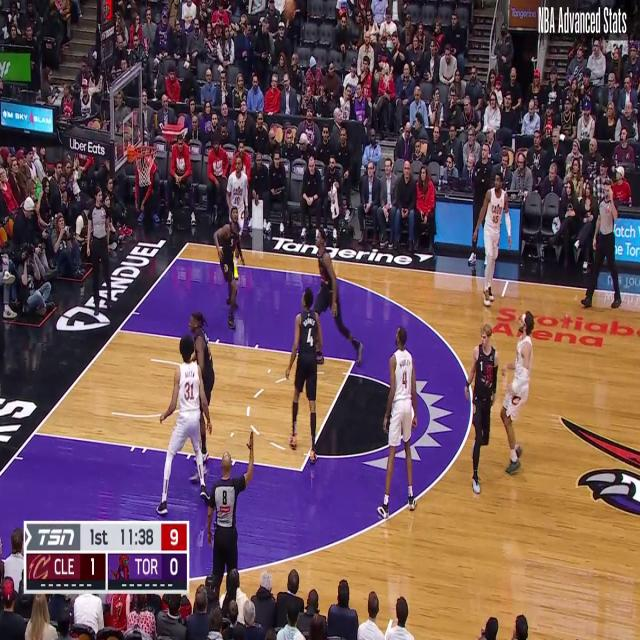ball: (284, 0, 296, 17)
judge: (204, 429, 256, 600), (584, 180, 622, 308), (87, 185, 113, 312)
player: (156, 336, 212, 514), (379, 326, 417, 518), (285, 288, 324, 461), (311, 227, 360, 363), (464, 324, 498, 492), (498, 313, 533, 473), (473, 171, 509, 306), (213, 203, 245, 332), (226, 150, 248, 266)
